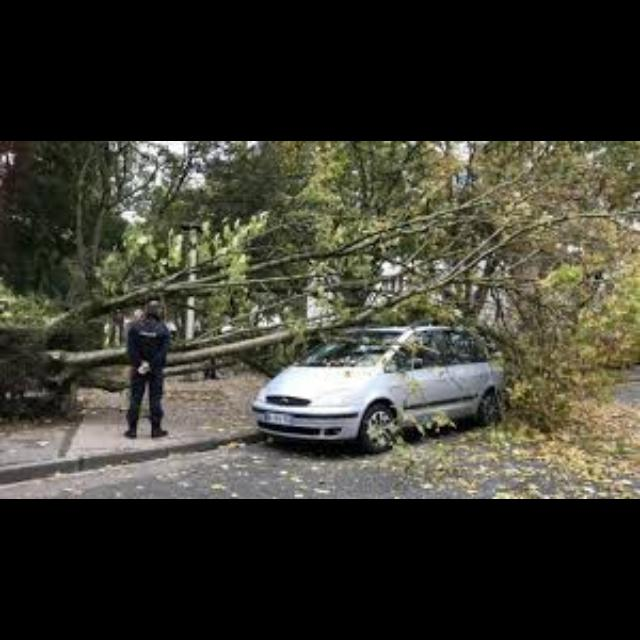Fallen Tree: (0, 314, 401, 421), (17, 276, 232, 340)
